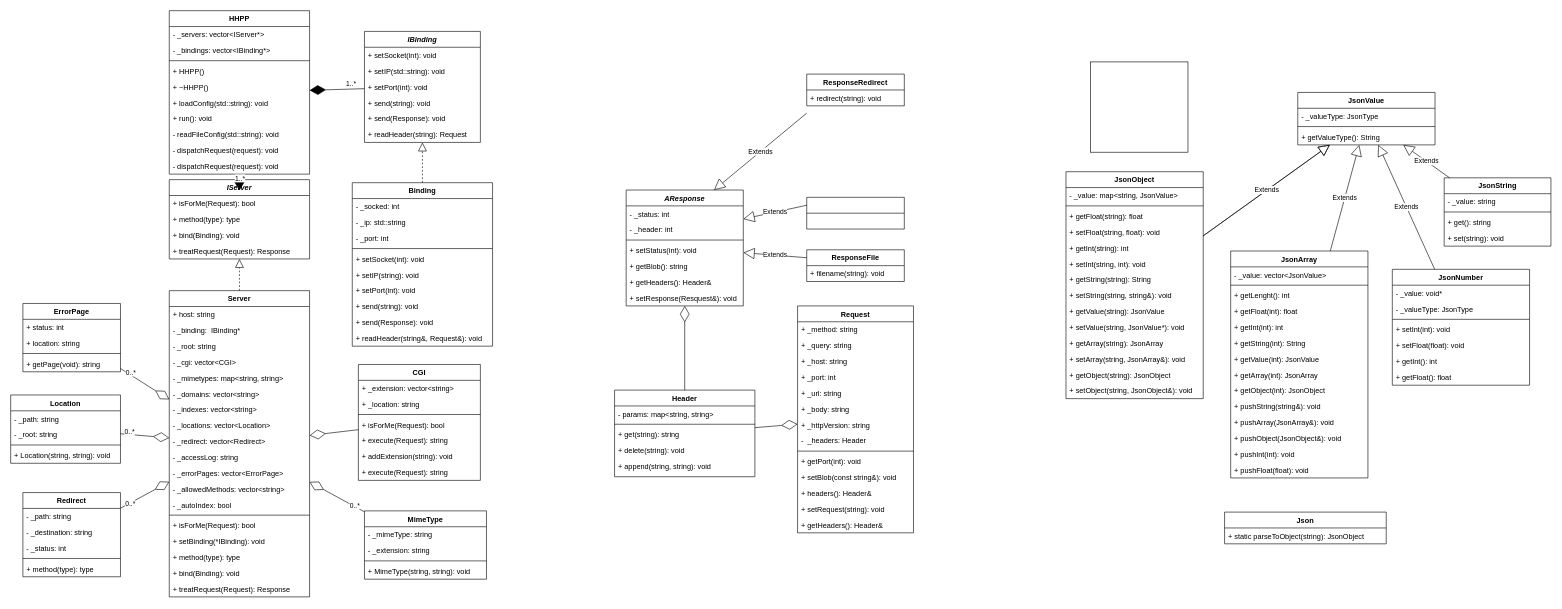
This 1562x609 diagram has some shape labels left out. Here are the shapes that lost their labels. From the top down, the centre of each, then its label:
At [1139,106]: "enum JsonType null string number object array true false".
At [855,213]: "ResponseCGI".
